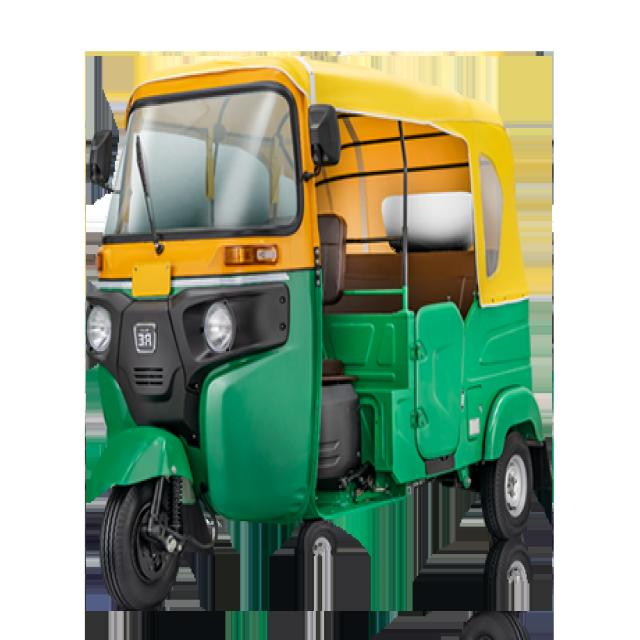autorickshaw: (86, 56, 552, 611)
